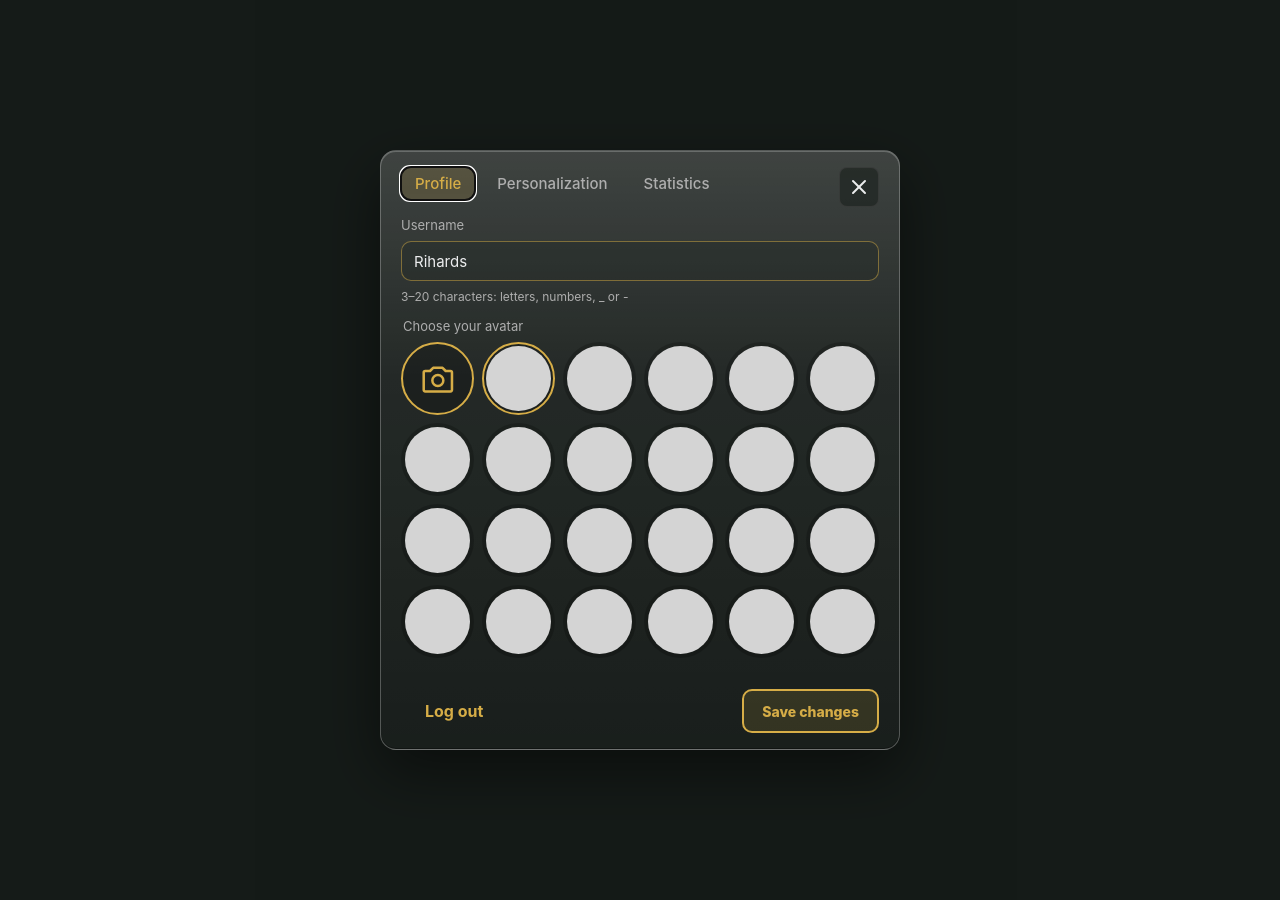
AuthDialog — Personalization tab (theme switcher + store) › shows a Personalization tab for authenticated users with the Default theme selected
Click the tab "Personalization" at (552, 184), box [483,167,622,200]
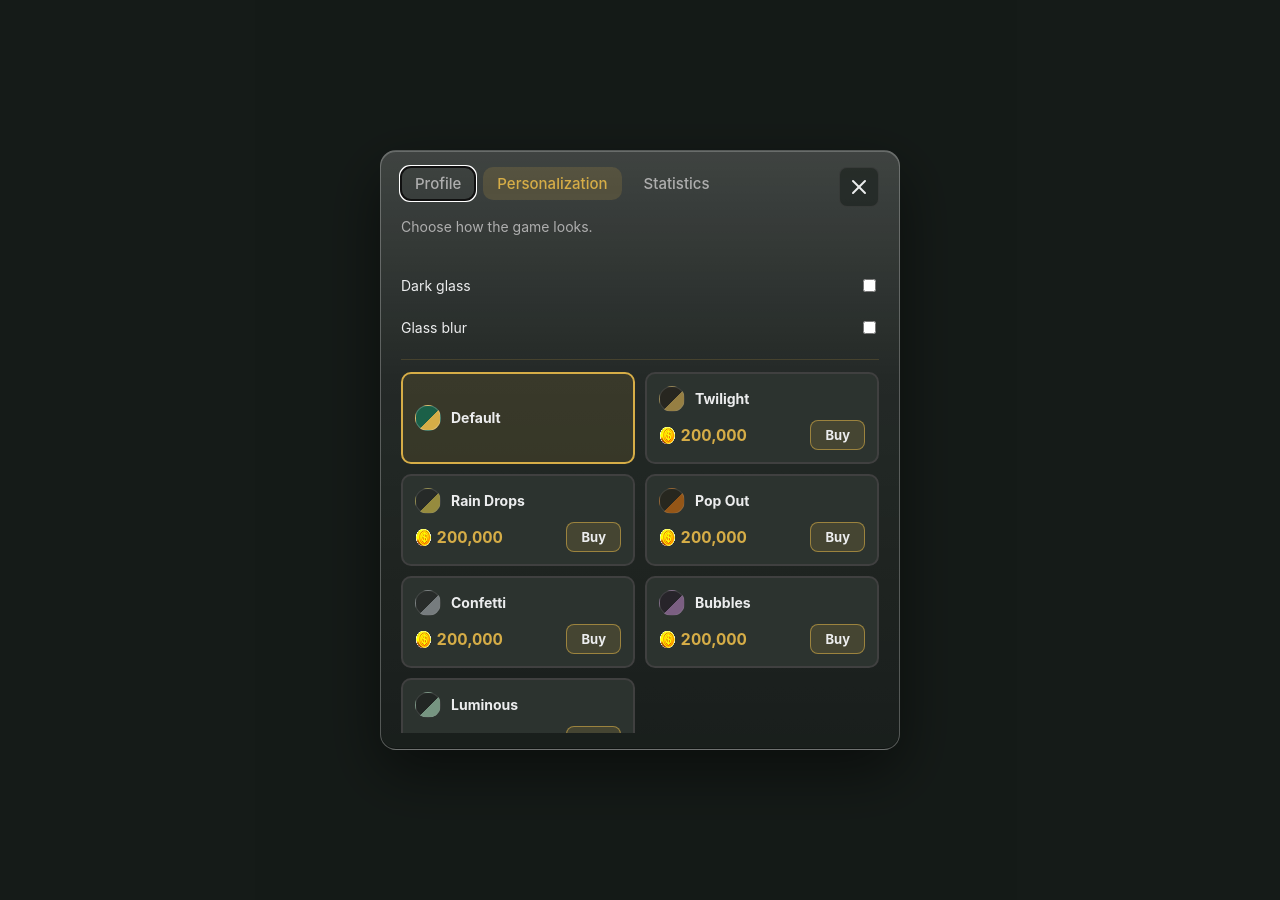
Now the radio button labelled "Default" is checked, box [401,372,635,464]
